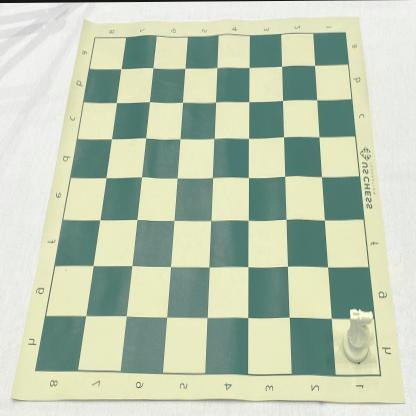white-knight: (341, 308, 374, 364)
